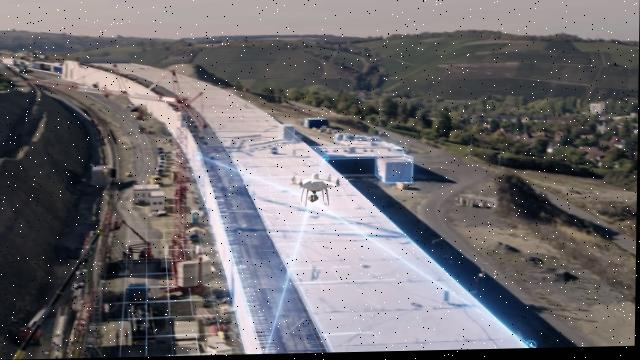drone: (289, 172, 342, 208)
